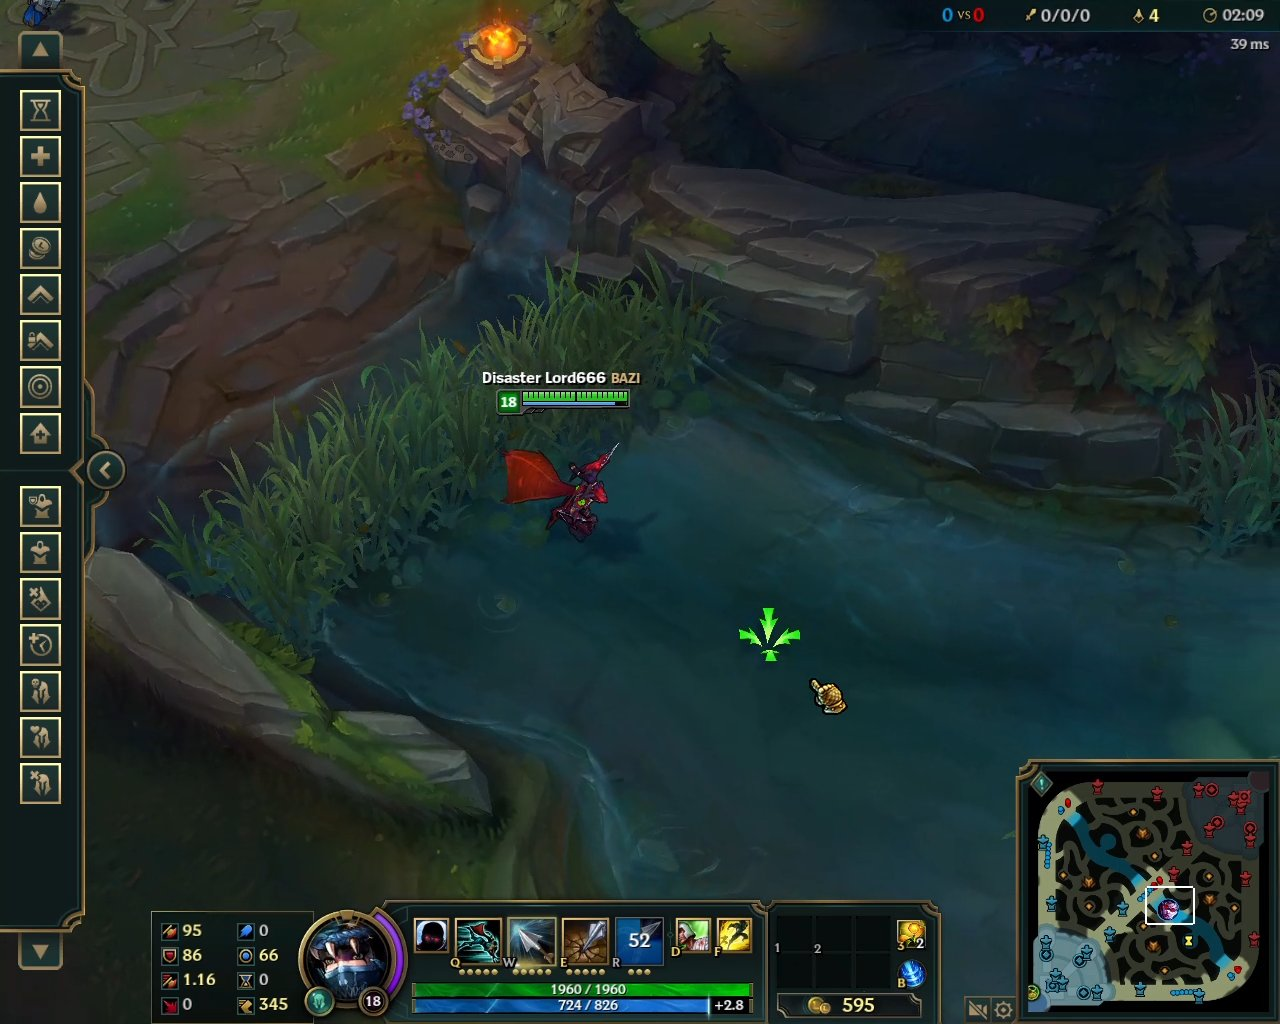Vayne: (501, 439, 616, 551)
